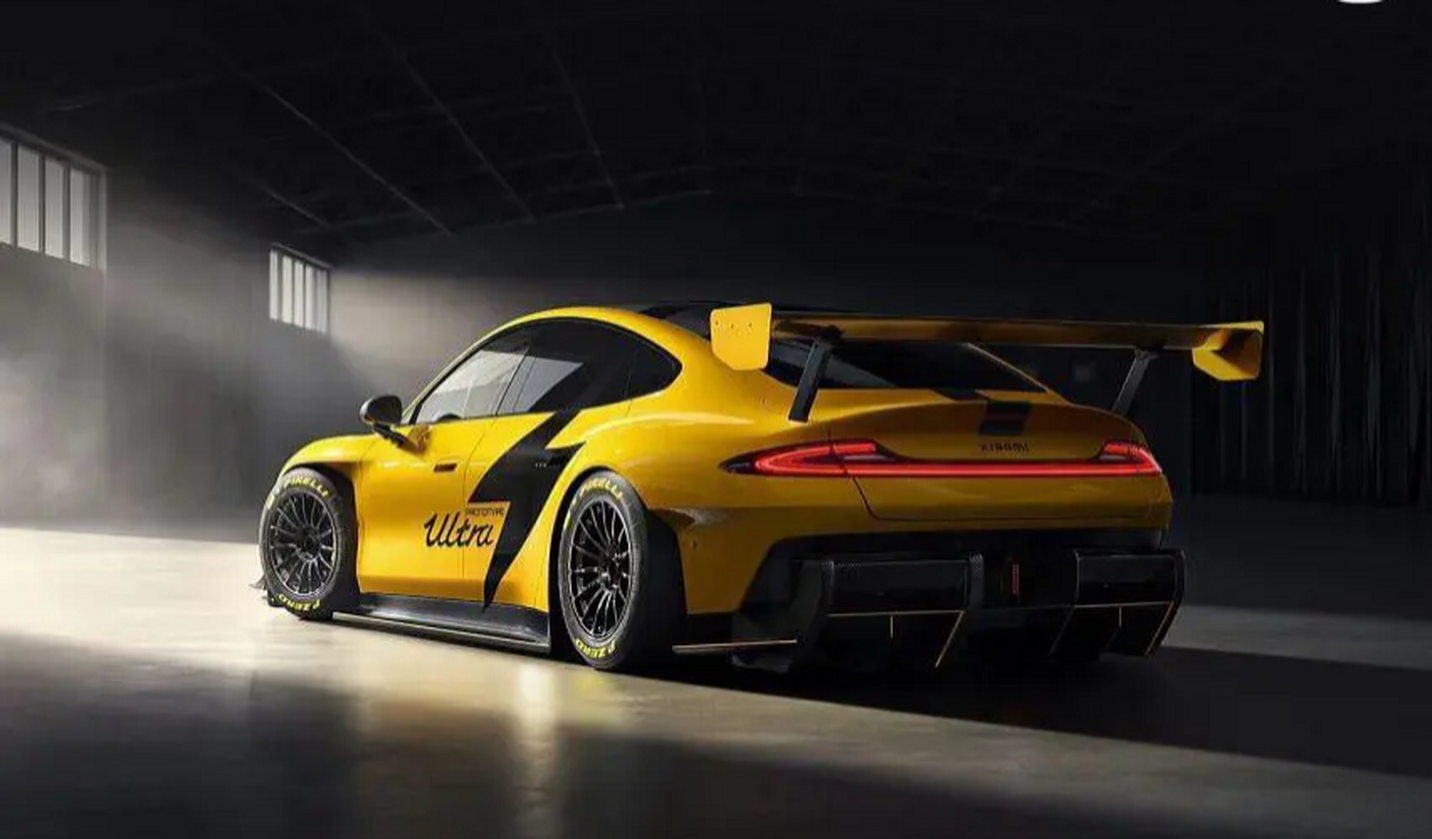su7: (273, 298, 1252, 677)
